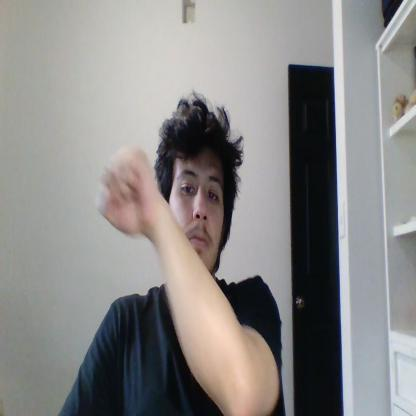S: (94, 146, 156, 235)
